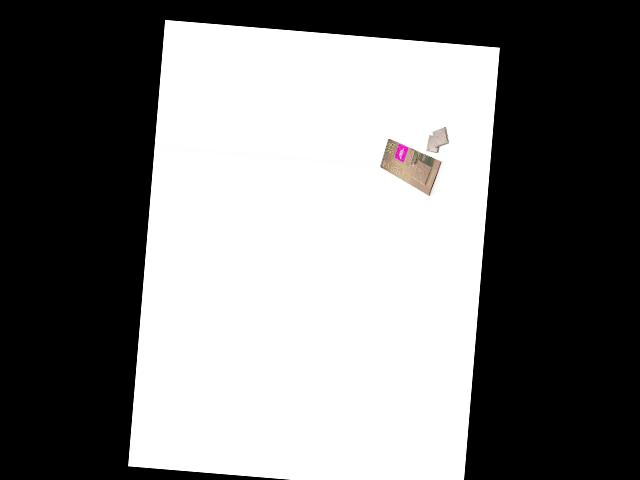chocolate: (377, 137, 444, 196)
